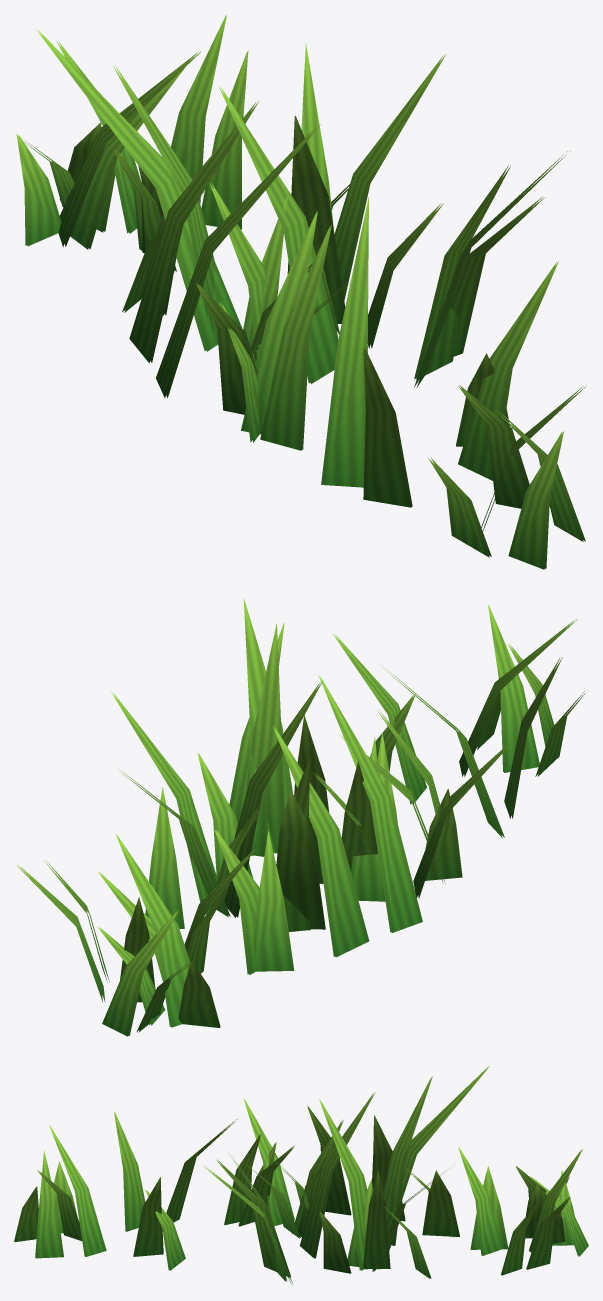
The model's file is Kit_GrassTuft.fbx.
3 views of the same model, one above another, from view 1: azimuth 30°, elevation 25°; view 2: azimuth 150°, elevation 25°; view 3: azimuth 270°, elevation 25° (orthographic). The views are drawn at different scales.
Parts seen in each view (by area): view 1: Kit_GrassTuft; view 2: Kit_GrassTuft; view 3: Kit_GrassTuft.
Part boxes in pixels (left/top/right/bottom): Kit_GrassTuft: left=16, top=15, right=586, bottom=569; Kit_GrassTuft: left=16, top=599, right=585, bottom=1036; Kit_GrassTuft: left=14, top=1066, right=588, bottom=1284.
Bounding box in the file's own units: 3.08 × 2.08 × 7.22.
1 material, 1 textured.
